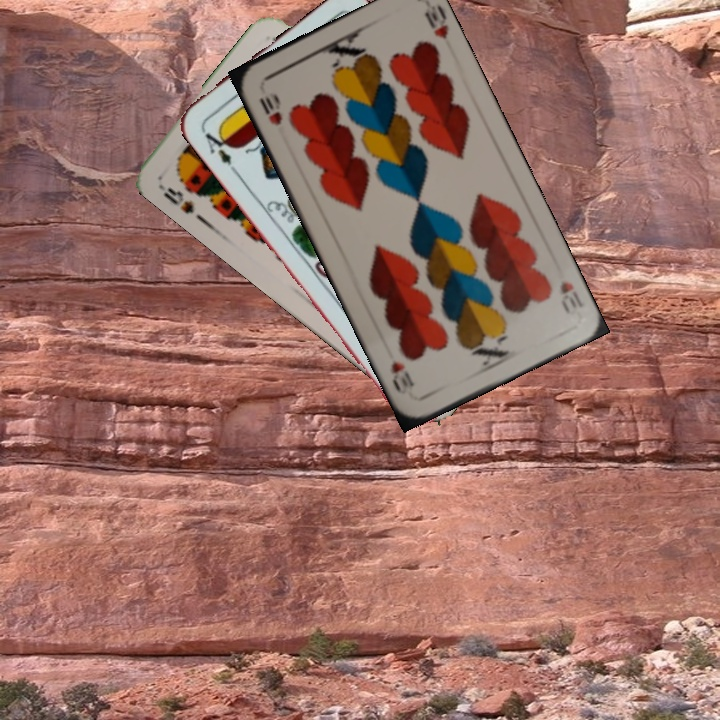EA: (197, 125, 239, 176)
H10: (556, 277, 587, 316), (255, 93, 285, 128)
S8: (154, 180, 197, 217)
